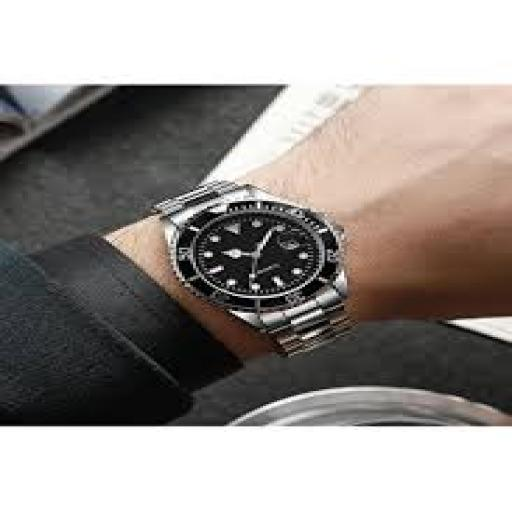KolSaati: (145, 175, 391, 369)
